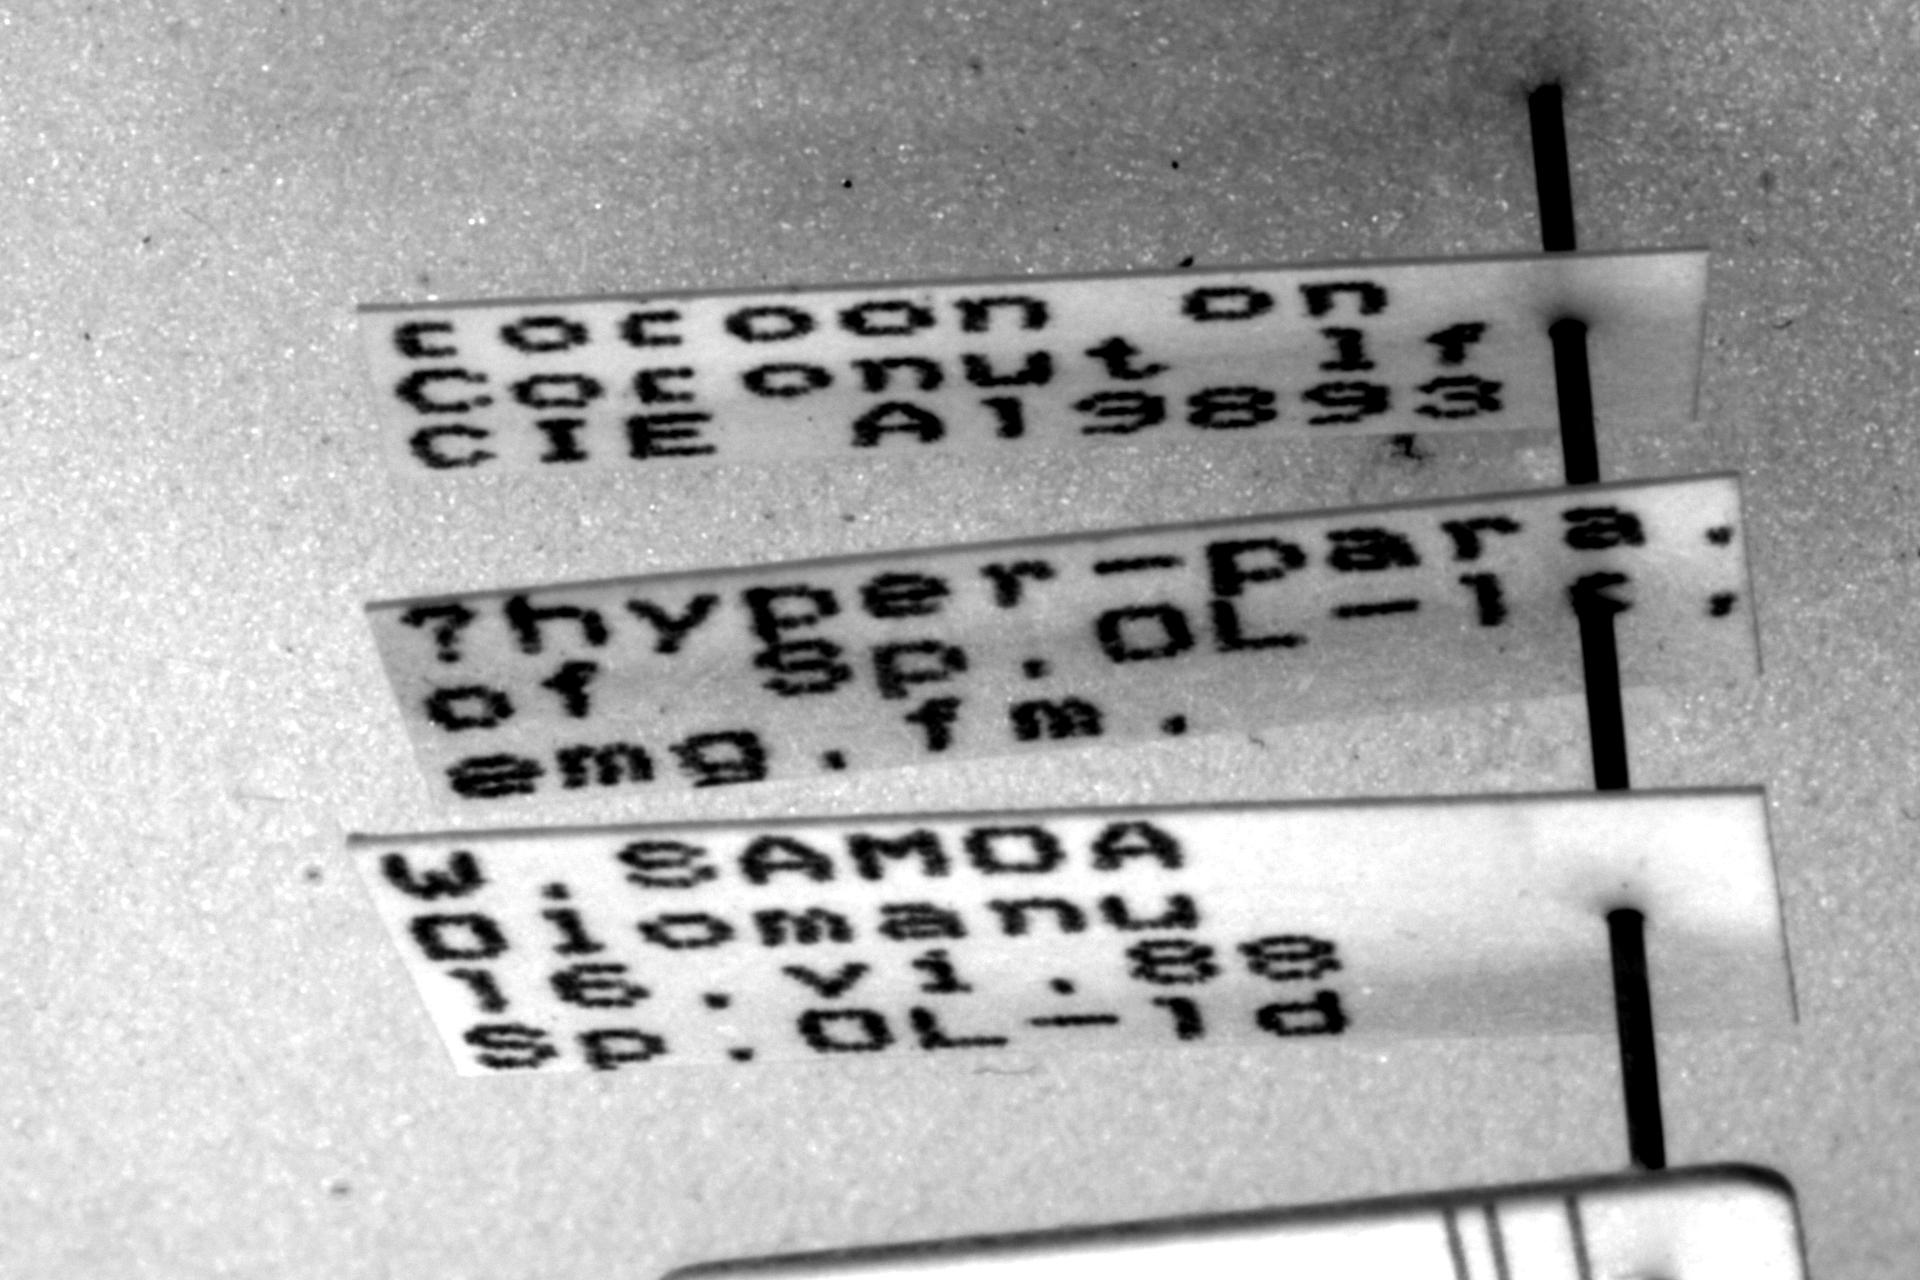typed_label: (368, 476, 1759, 810), (349, 791, 1796, 1076), (360, 251, 1706, 476)
